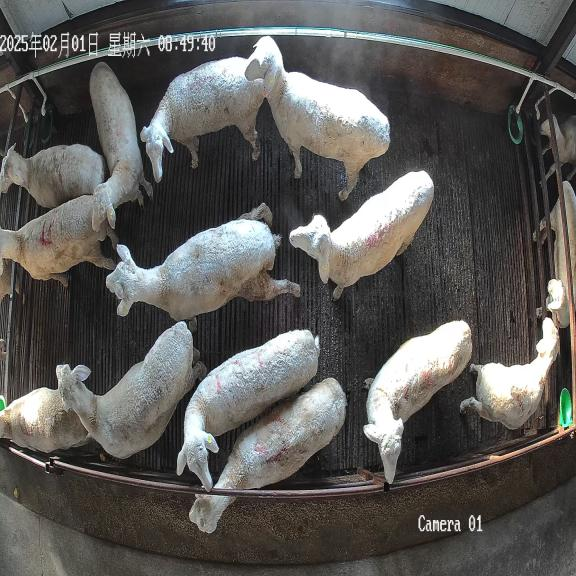stand: (106, 203, 300, 332), (189, 378, 346, 533), (245, 36, 390, 200), (177, 330, 320, 490), (56, 322, 207, 458), (289, 170, 434, 300), (363, 321, 472, 484), (140, 57, 263, 181), (461, 318, 559, 429), (90, 62, 152, 236), (0, 195, 118, 286), (0, 144, 107, 208), (0, 387, 89, 452)
